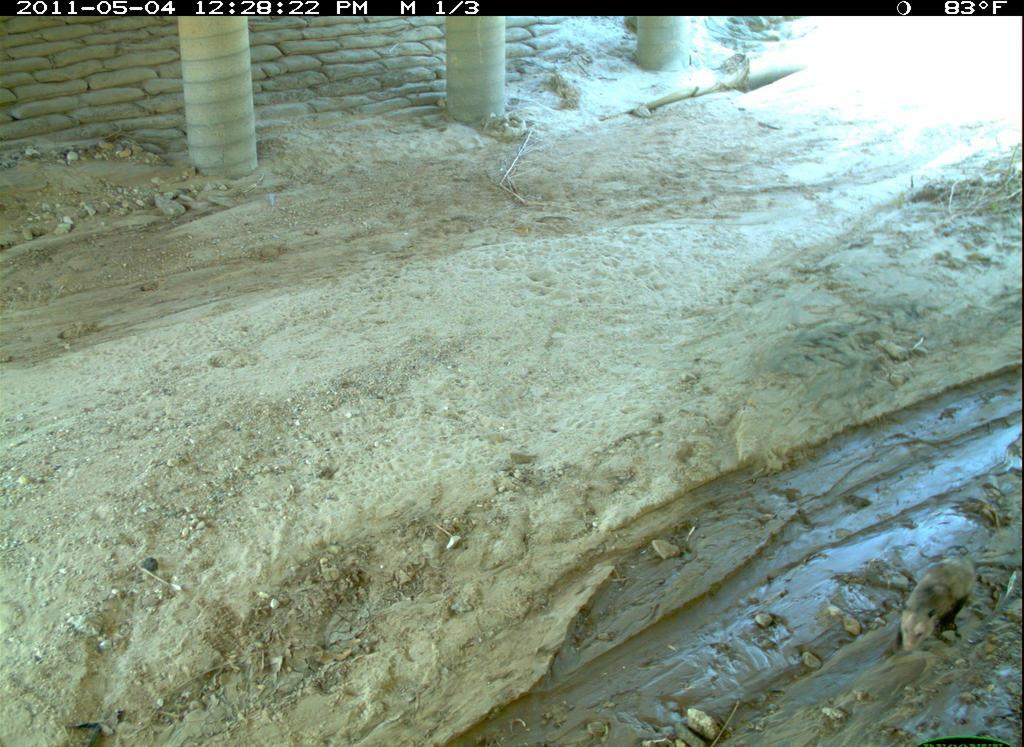opossum: (888, 547, 993, 665)
